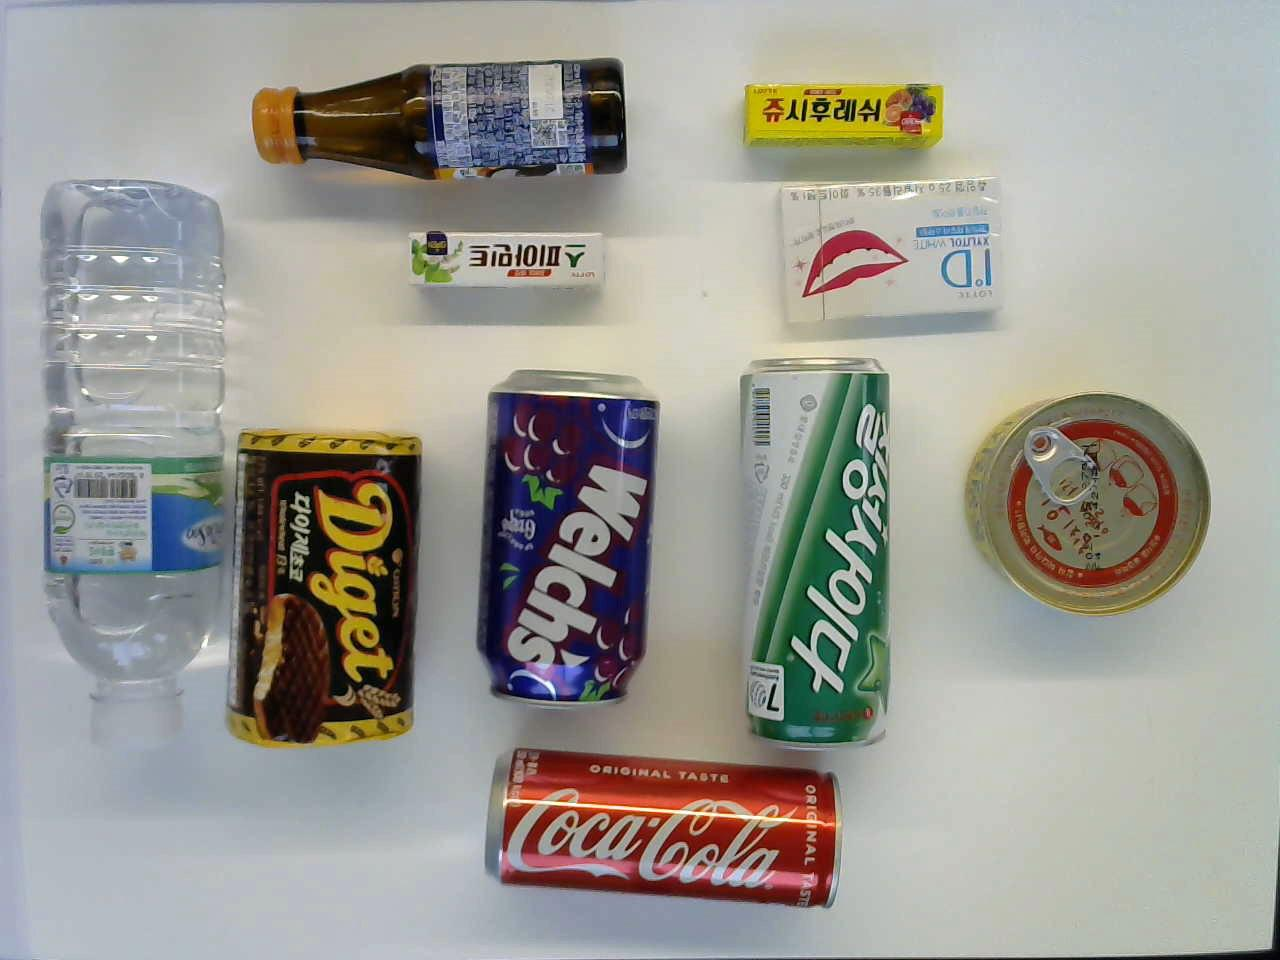ID_gum: (770, 168, 1009, 328)
cidar: (741, 353, 897, 742)
coke: (487, 741, 845, 909)
diget_choco: (221, 424, 428, 749)
juicyfresh: (737, 74, 946, 156)
samdasu: (33, 172, 229, 769)
spearmint: (404, 225, 612, 294)
tuna: (957, 382, 1213, 621)
vita500: (242, 56, 633, 185)
welchs: (471, 368, 665, 701)
